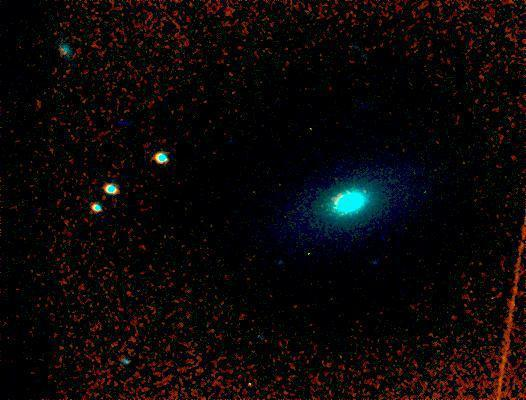star: (277, 289, 307, 319)
